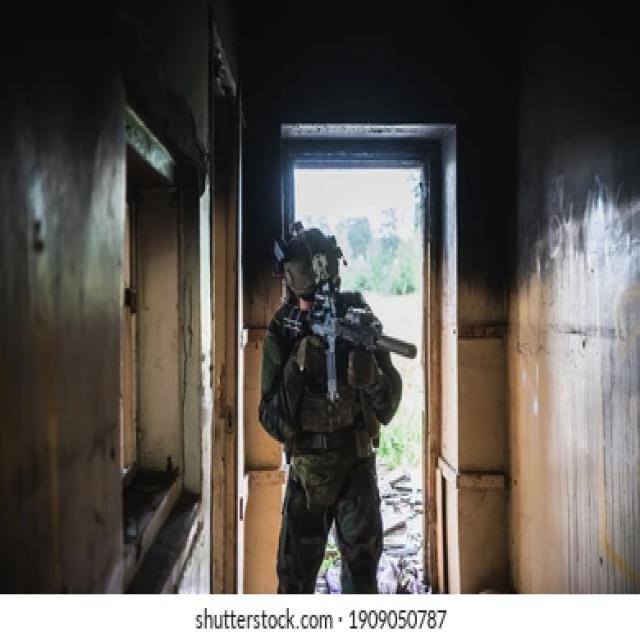soldier: (244, 212, 440, 594)
